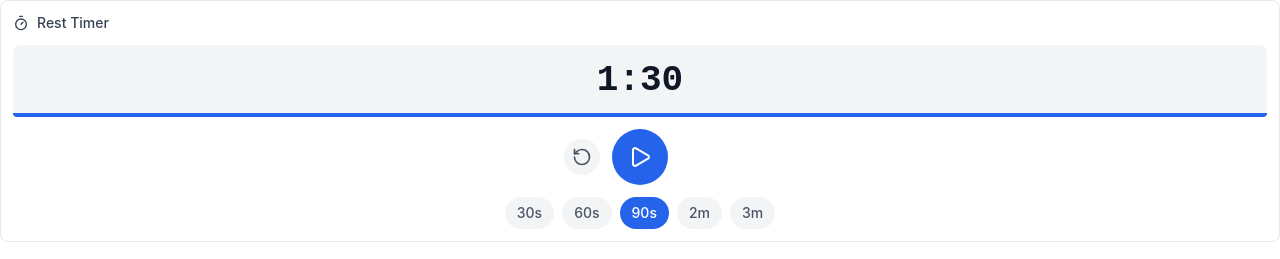
it: RestTimer › should pause timer when pause button is clicked
Note: Start the timer
Click the button named "Start timer".
click(640, 157)  # box x1=612 y1=129 x2=668 y2=185
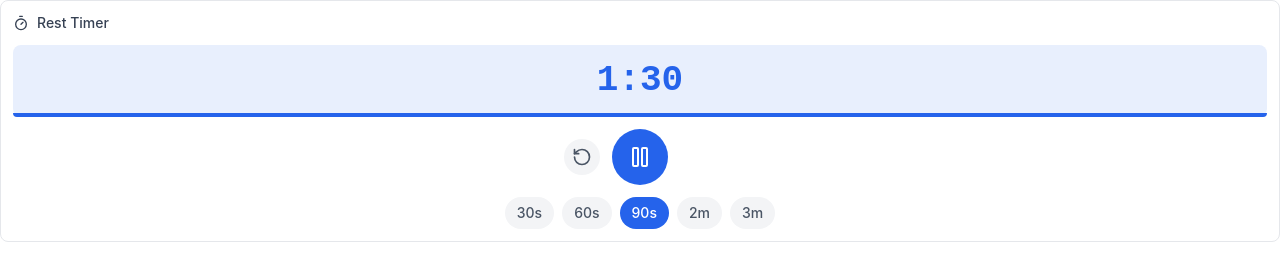
Note: Pause it
Click the button named "Pause timer".
click(640, 157)  # box x1=612 y1=129 x2=668 y2=185
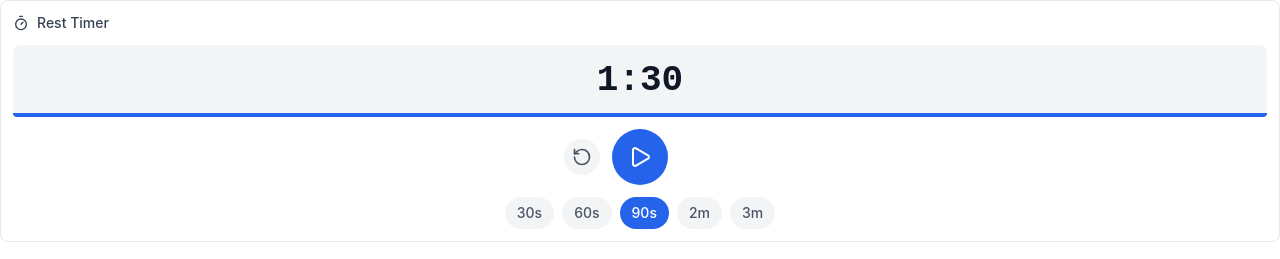
Result: the button named "Start timer" is shown at x1=612 y1=129 x2=668 y2=185
